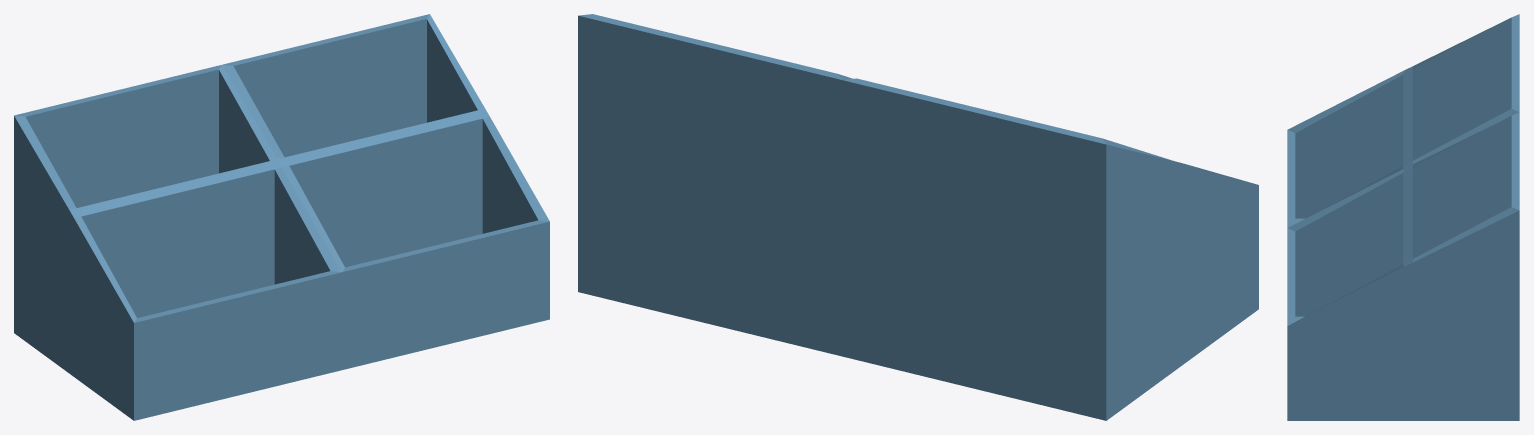
Rendered from organizador.fbx.
3 renders of one model, left to right at view 1: azimuth 30°, elevation 25°; view 2: azimuth 150°, elevation 25°; view 3: azimuth 270°, elevation 25°, orthographic. The views are drawn at different scales.
Parts seen in each view (by area): view 1: organizador; view 2: organizador; view 3: organizador.
Boxes of the visible parts, x1=… form: organizador: x1=14, y1=14, x2=549, y2=420; organizador: x1=578, y1=14, x2=1258, y2=420; organizador: x1=1287, y1=14, x2=1519, y2=420.
Bounding box in the file's own units: 24 × 12 × 12.
